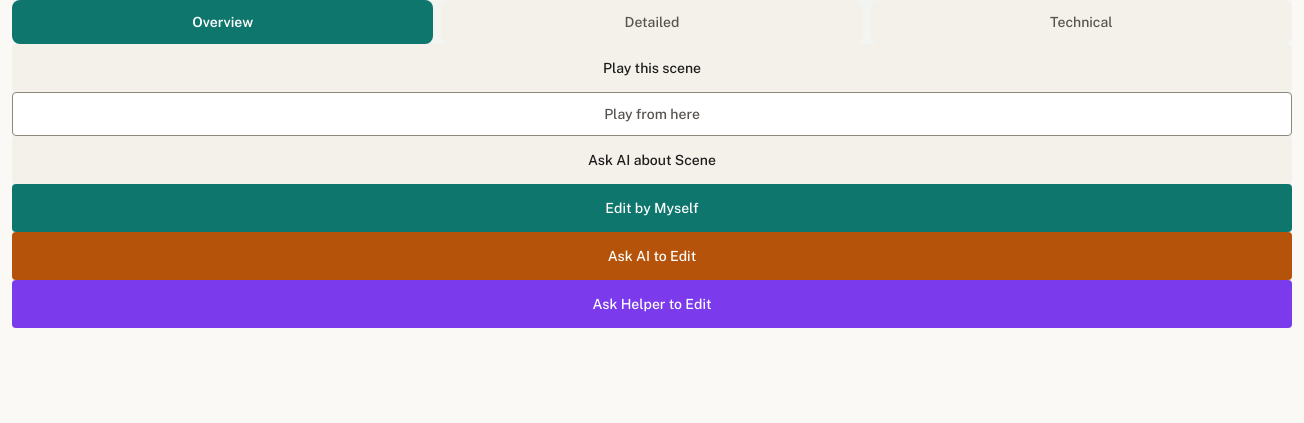
Test: SceneActions — voice input present in every composer › the VQA composer renders a mic (voice input) button
This screenshot has width=1304, height=423.
Click the button "Ask AI about Scene" at (652, 160), box [12, 136, 1292, 184]
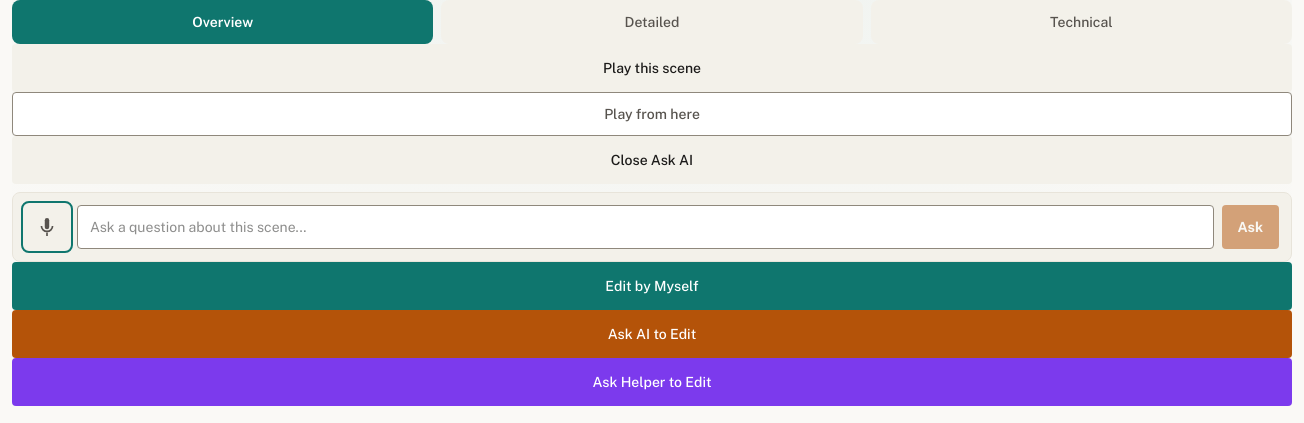
Check: the button named "voice input" is shown, box [25, 205, 69, 249]
